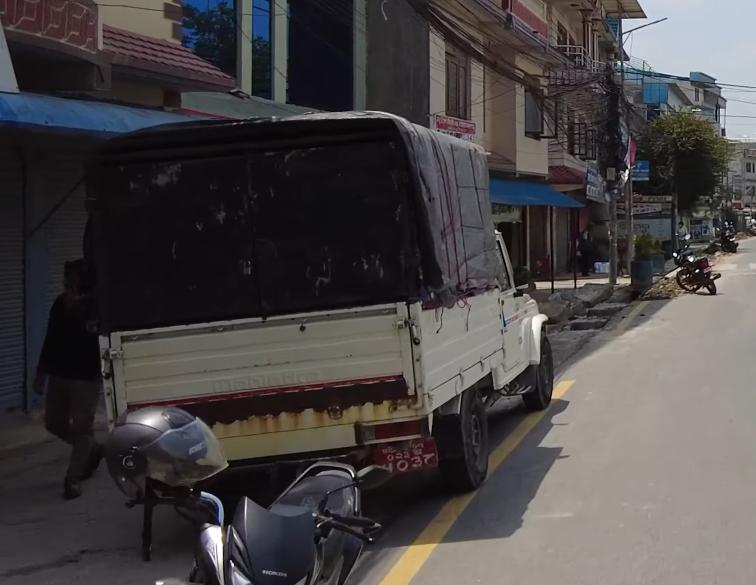bike: (85, 400, 405, 585), (665, 230, 725, 303)
transport_vehicle: (77, 107, 567, 497)
